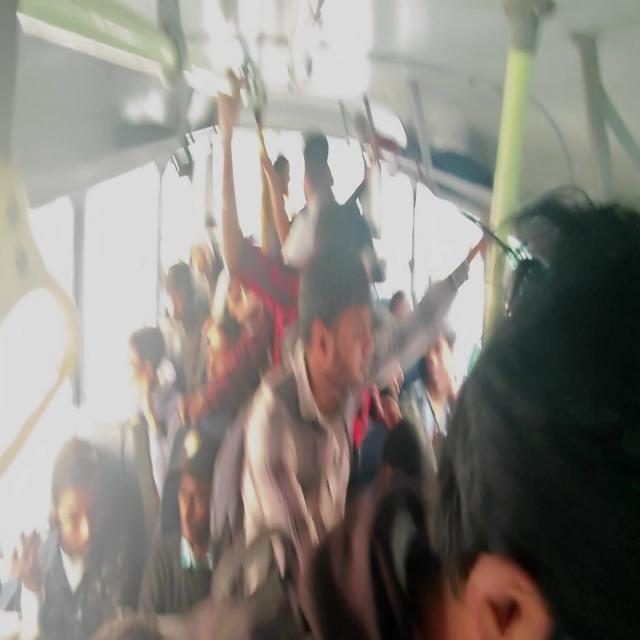person: (10, 65, 637, 637), (431, 199, 639, 638), (209, 243, 382, 635), (17, 434, 138, 638), (259, 128, 382, 279), (138, 424, 222, 622), (126, 325, 184, 498), (160, 259, 212, 396)
